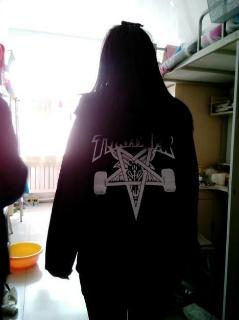long sleeve top: (45, 96, 201, 302)
trousers: (85, 232, 176, 319)
